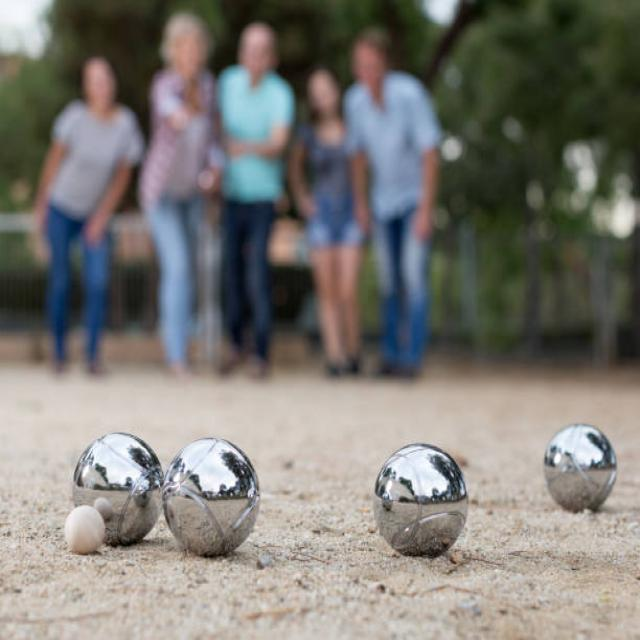hatball: (61, 505, 109, 561)
petanque: (158, 433, 265, 563), (366, 437, 473, 567), (67, 427, 165, 551), (533, 416, 624, 521)
